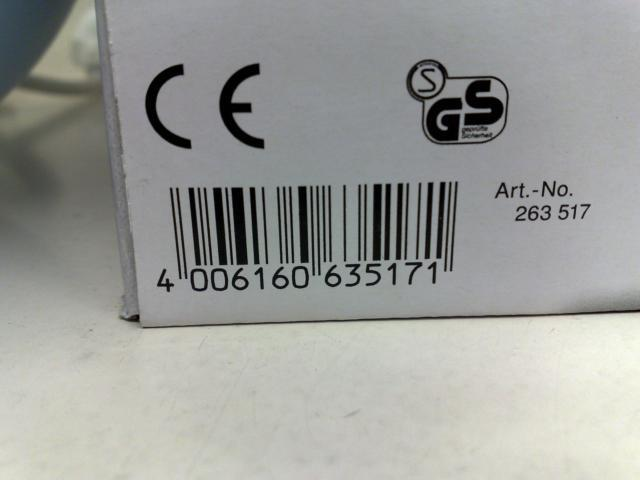Barcode: (146, 167, 475, 306)
